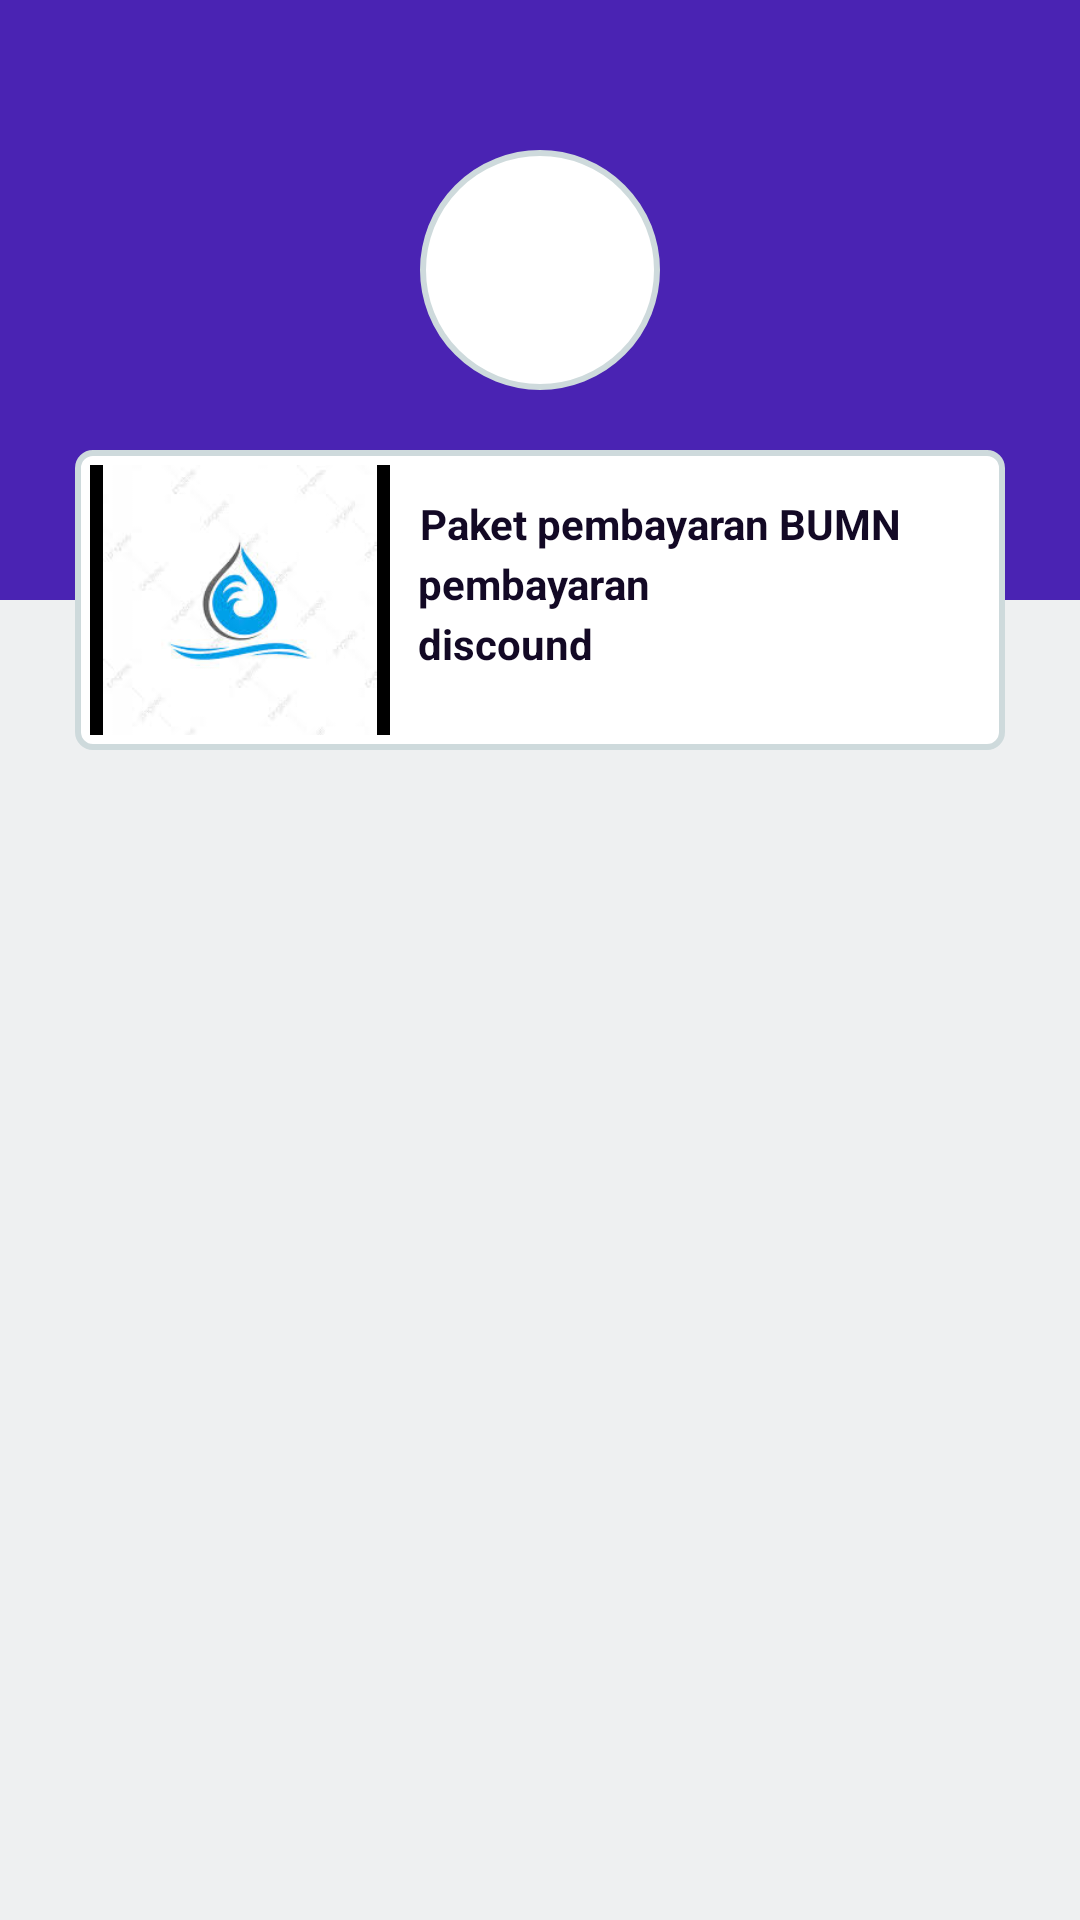

Point at icon controls on the screen. Image size 1080*1920, points as [x,y].
air: [240,600]
